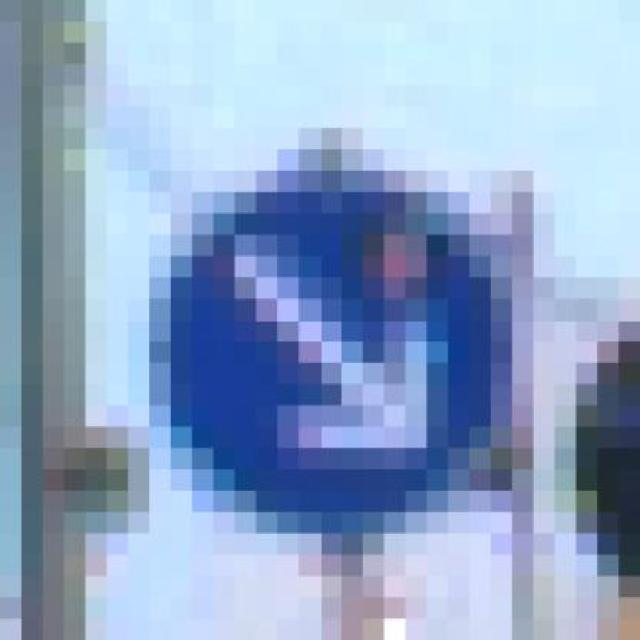Keep-Right: (106, 149, 534, 576)
